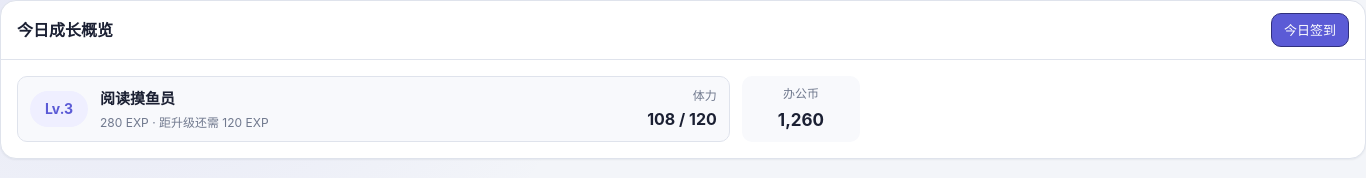
Test: PlatformOverviewCard › 签到成功后重新获取总览并展示已签到状态
This screenshot has width=1366, height=178.
Step 1. Click the button "今日签到" → (1310, 30), box [1271, 13, 1349, 47]
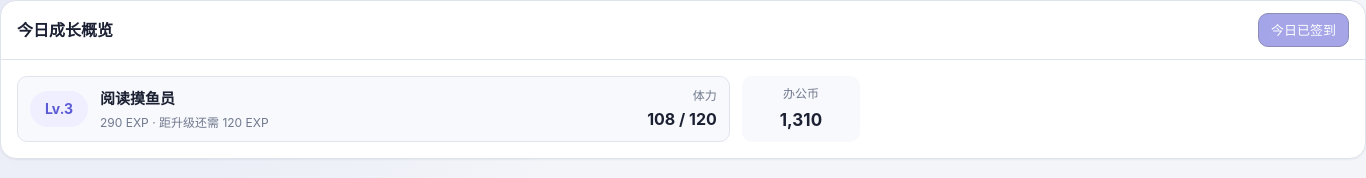
Expected: the button "今日已签到" is disabled, [1258, 13, 1349, 47]
Expected: the text "290 EXP · 距升级还需 120 EXP" is shown, [100, 115, 269, 130]
